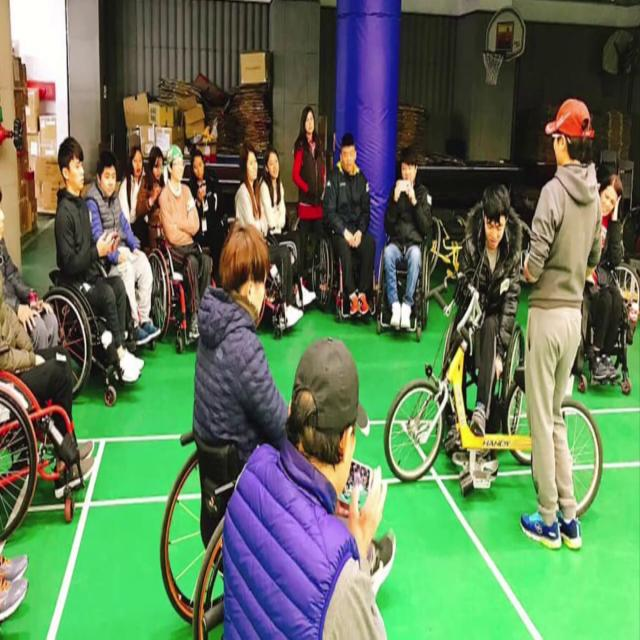wheelchairs: (154, 373, 369, 635), (422, 260, 532, 475), (40, 223, 150, 420), (0, 351, 109, 544), (141, 188, 235, 358), (558, 234, 640, 383), (321, 180, 391, 338), (371, 211, 451, 343)
